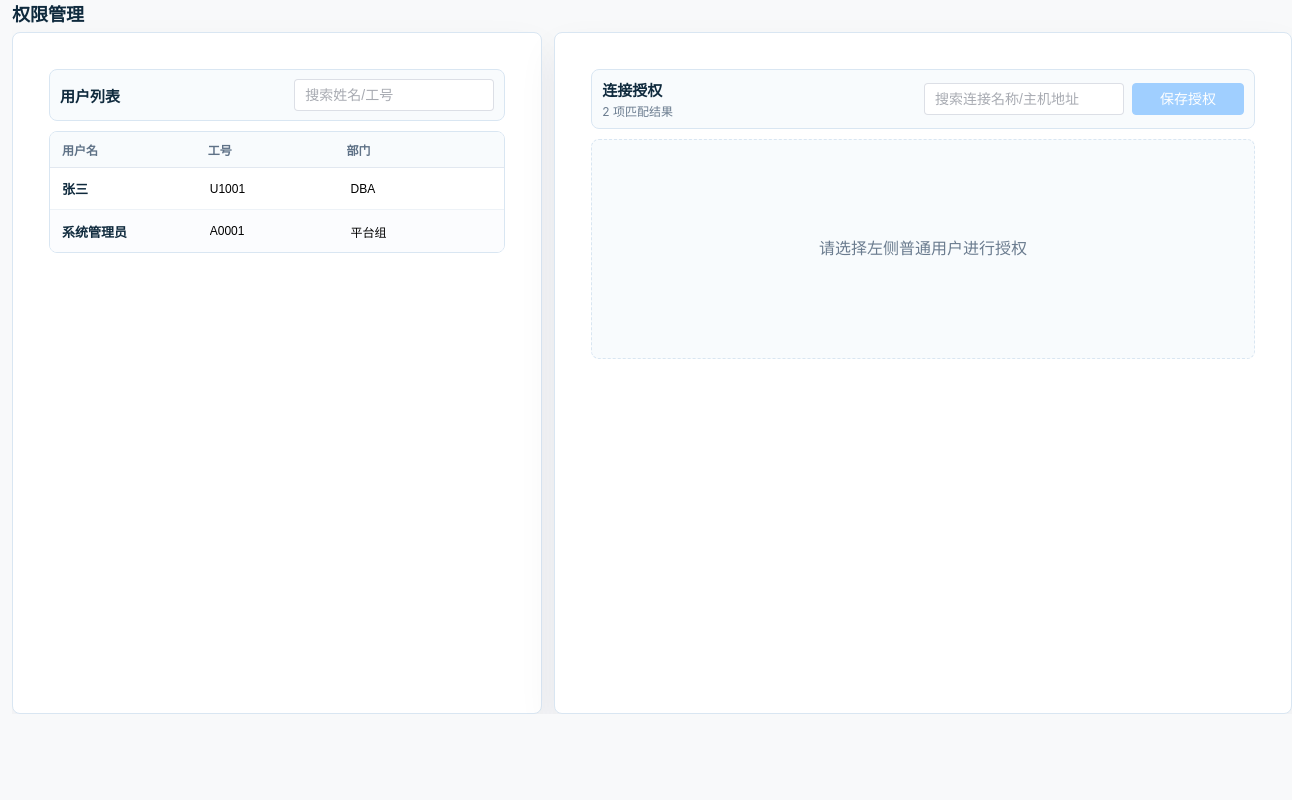
Test case: PermissionManagement › loads permissions for a regular user and renders the summary count
Click the button with class "user-card" showing "张三 U1001 DBA". click: [227, 188]
box: [50,168,504,210]
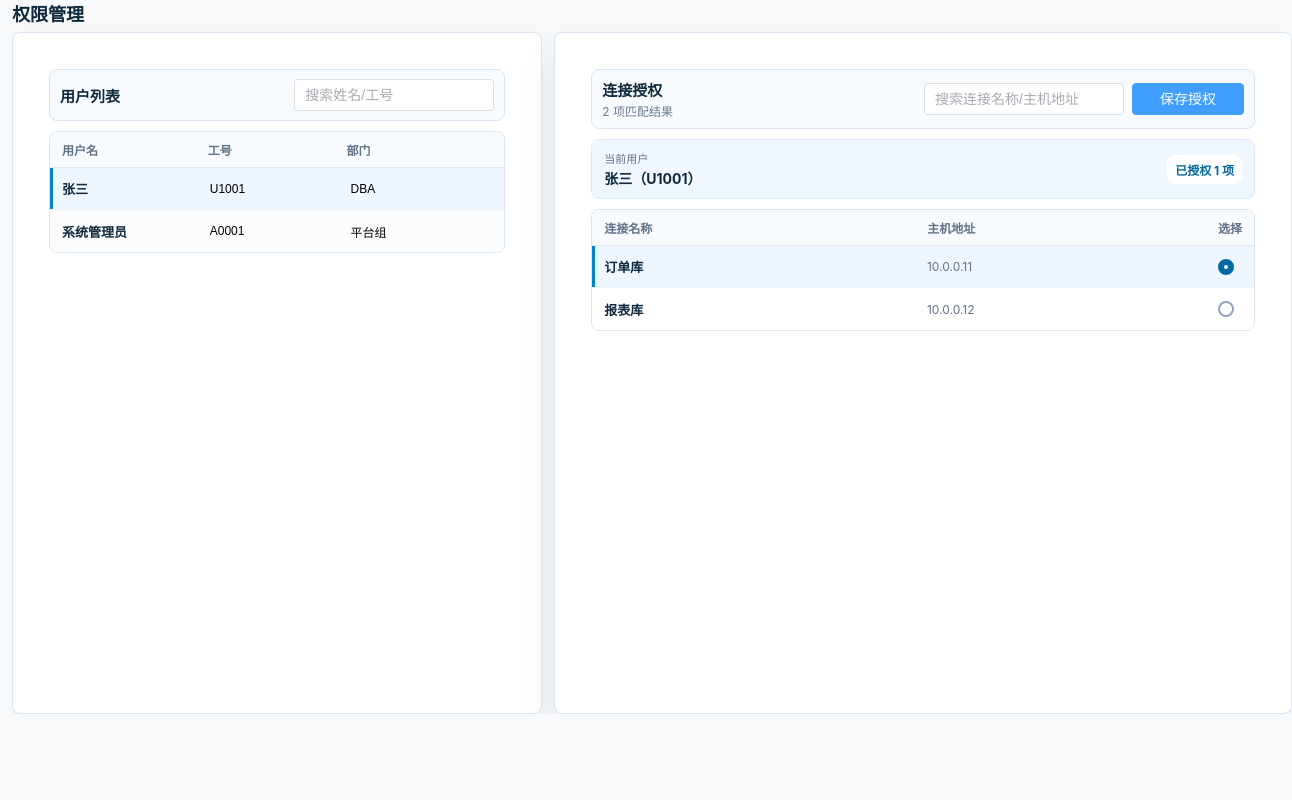
Result: the text "张三（U1001）" is shown at [604,170,702,187]
Result: the text "已授权 1 项" is shown at [1167,154,1242,184]
